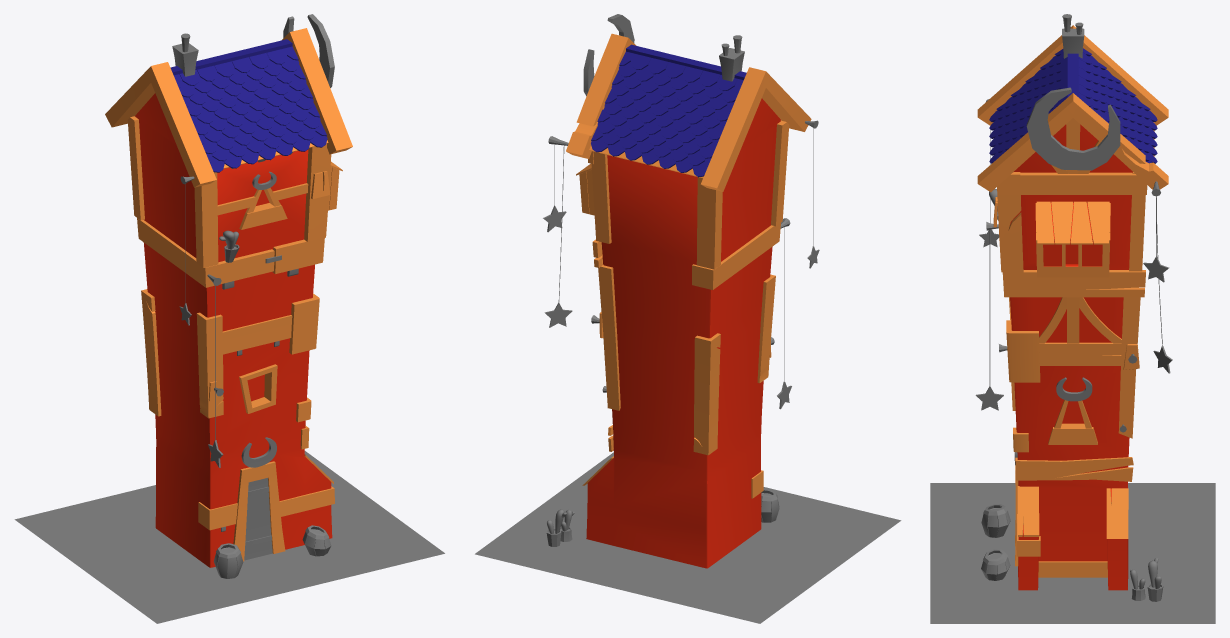
Rendered from MoonHouse_LP.fbx.
3 views of the same model, side by side, from view 1: azimuth 30°, elevation 25°; view 2: azimuth 150°, elevation 25°; view 3: azimuth 270°, elevation 25° (orthographic).
Visible parts, largest first — view 1: Box001; view 2: Box001; view 3: Box001.
Boxes of the visible parts, x1,y1,x2,y2 form: Box001: (14, 14, 444, 623); Box001: (475, 14, 901, 623); Box001: (930, 14, 1215, 623).
Size of the model in its own units: 140 by 240 by 120.
